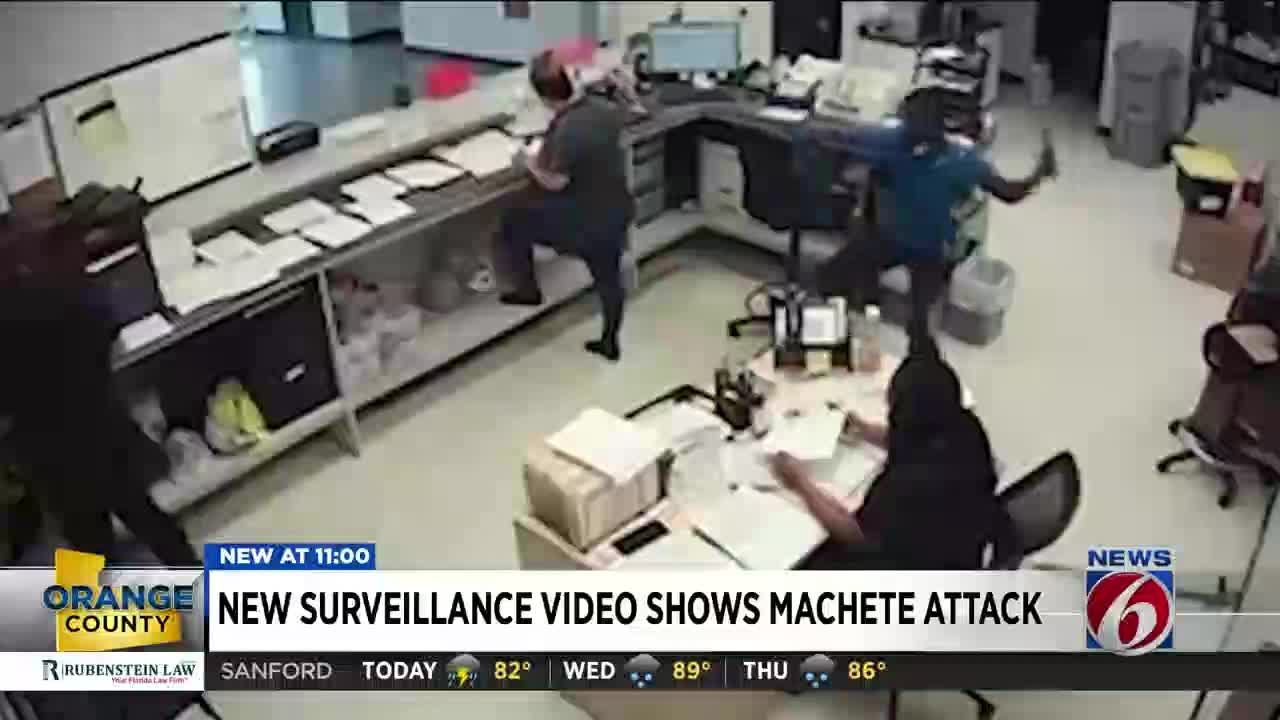knife: (1034, 98, 1059, 151)
knife in hand: (1011, 82, 1099, 203)
person: (758, 316, 1032, 585), (501, 50, 629, 357), (857, 70, 979, 309)
